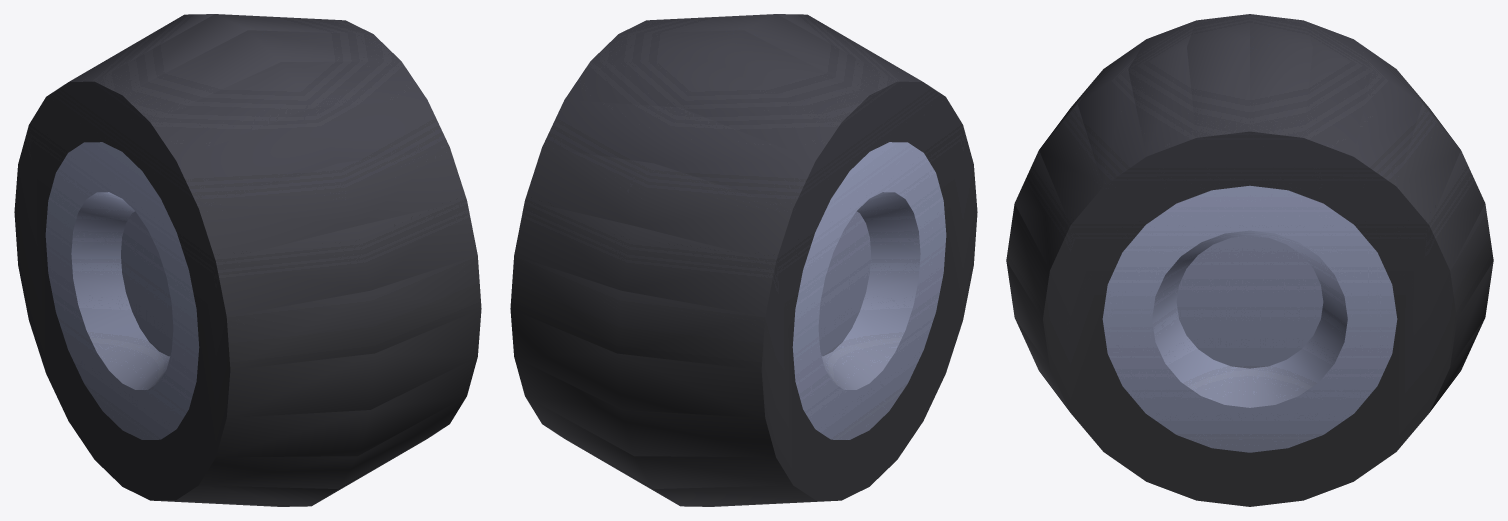
File: Wheel.glb
3 renders of one model, left to right at view 1: azimuth 30°, elevation 25°; view 2: azimuth 150°, elevation 25°; view 3: azimuth 270°, elevation 25°, orthographic. The views are drawn at different scales.
Parts seen in each view (by area): view 1: wheel-front-left; view 2: wheel-front-left; view 3: wheel-front-left.
Part boxes in pixels (<box>): wheel-front-left: <box>14,14,481,506</box>; wheel-front-left: <box>510,14,977,506</box>; wheel-front-left: <box>1006,14,1493,506</box>.
Bounding box in the file's own units: 1.74 × 3.05 × 3.05.
1 material, 1 textured.
